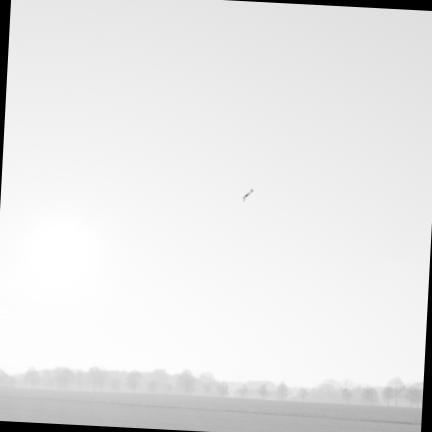Shahed: (242, 189, 253, 201)
